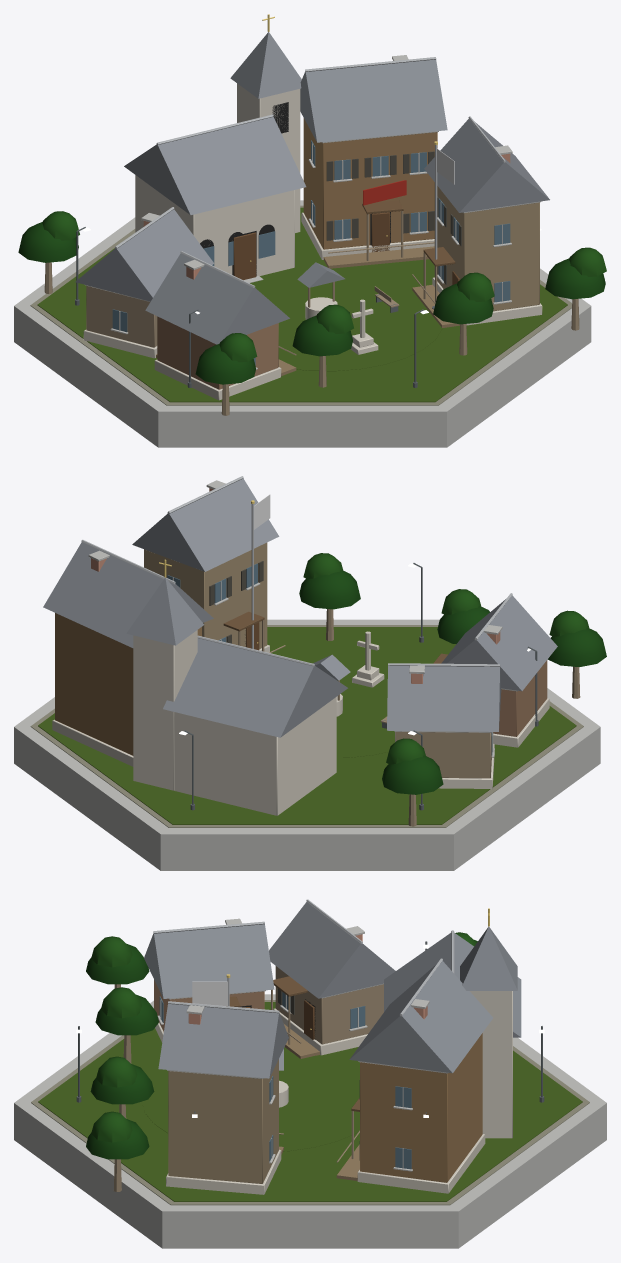
File: villageCenter_us.glb
3 renders of one model, top to bottom at view 1: azimuth 30°, elevation 25°; view 2: azimuth 150°, elevation 25°; view 3: azimuth 270°, elevation 25°, orthographic. The views are drawn at different scales.
Visible parts, largest first — view 1: roof_slate, wood, wall_concrete, turf, stone, leaf, glass, pavers, metal, dark, steel_dark, paint; view 2: roof_slate, wall_concrete, turf, stone, wood, leaf, pavers, metal, steel_dark, glass; view 3: roof_slate, wood, wall_concrete, turf, leaf, stone, pavers, glass, metal, banner.
Part boxes in pixels (x1,y1,x2,y2): roof_slate: [75, 32, 549, 344]; wood: [44, 118, 579, 415]; wall_concrete: [14, 55, 591, 447]; turf: [37, 207, 567, 402]; stone: [83, 83, 542, 400]; leaf: [18, 211, 606, 384]; glass: [112, 140, 510, 365]; pavers: [30, 205, 572, 405]; metal: [115, 57, 505, 287]; dark: [200, 102, 390, 275]; steel_dark: [75, 227, 434, 387]; paint: [363, 180, 406, 205]; roof_slate: [43, 478, 557, 737]; wall_concrete: [14, 480, 600, 870]; turf: [38, 627, 576, 824]; stone: [52, 630, 549, 815]; wood: [55, 542, 580, 826]; leaf: [299, 553, 606, 794]; pavers: [30, 625, 583, 827]; metal: [81, 476, 512, 666]; steel_dark: [184, 563, 538, 810]; glass: [167, 563, 492, 755]; roof_slate: [144, 902, 521, 1078]; wood: [113, 966, 482, 1191]; wall_concrete: [14, 918, 606, 1248]; turf: [38, 1002, 582, 1201]; leaf: [86, 932, 477, 1159]; stone: [155, 991, 512, 1194]; pavers: [31, 1000, 589, 1205]; glass: [159, 992, 411, 1169]; metal: [153, 899, 454, 1016]; banner: [192, 981, 227, 1005].
Bounding box in the file's own units: 21.3 × 11.8 × 24.6.
